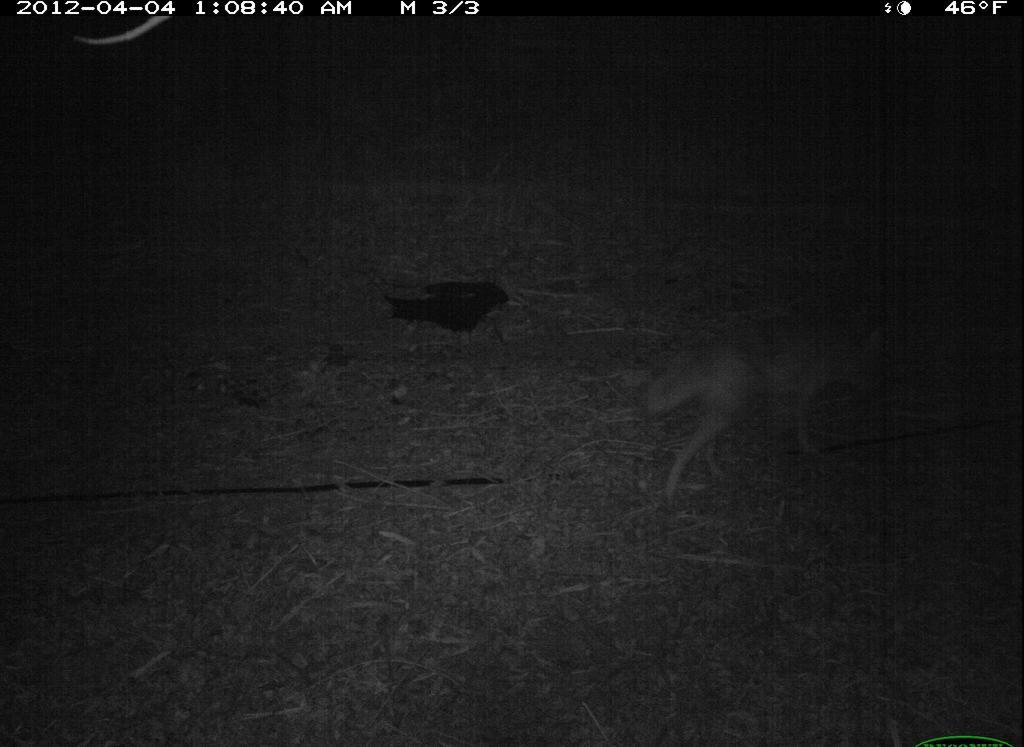coyote: (624, 290, 905, 520)
